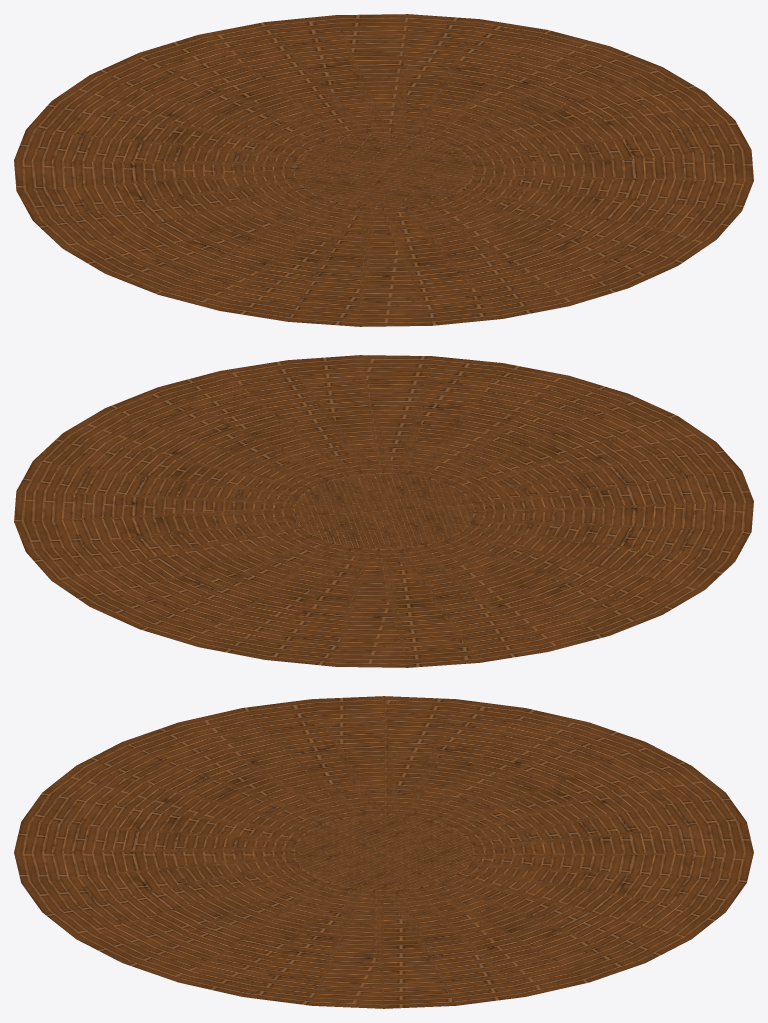
File: sm_floor.fbx
3 views of the same model, one above another, from view 1: azimuth 30°, elevation 25°; view 2: azimuth 150°, elevation 25°; view 3: azimuth 270°, elevation 25° (orthographic).
Parts seen in each view (by area): view 1: Cylinder; view 2: Cylinder; view 3: Cylinder.
Boxes of the visible parts, <box> form: Cylinder: <box>14,14,753,326</box>; Cylinder: <box>14,355,753,667</box>; Cylinder: <box>14,696,753,1008</box>.
Size of the model in its own units: 1140 by 5.96e-06 by 1140.
